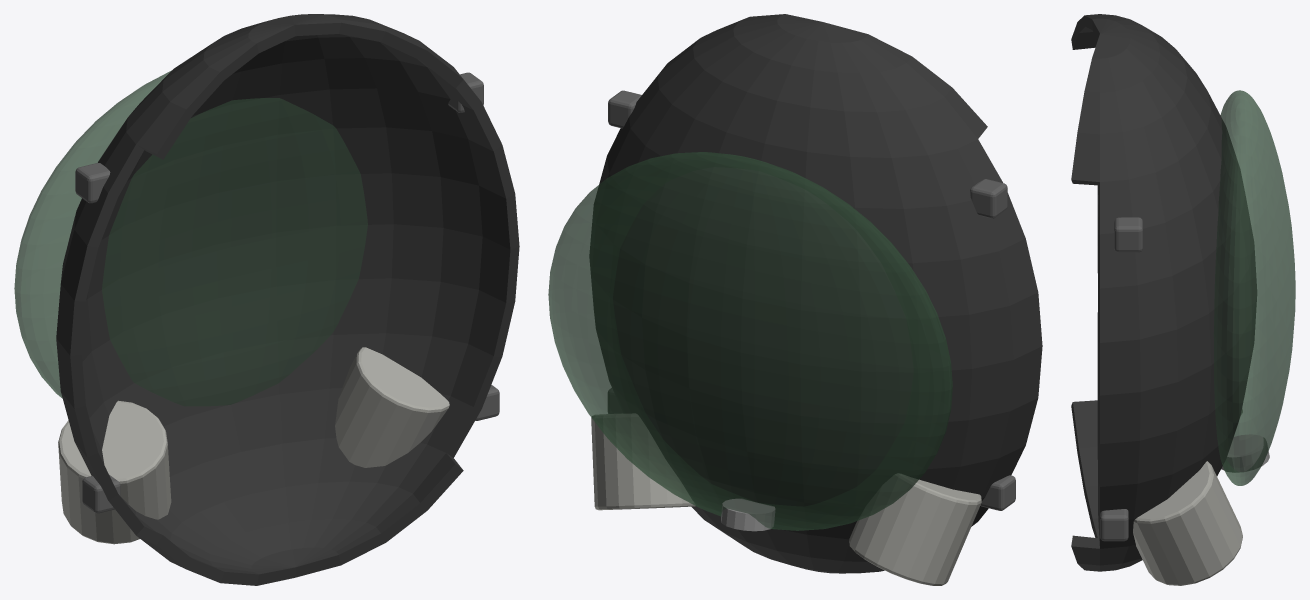
Rendered from hazmatmask.fbx.
The picture shows the model from 3 angles, left to right: view 1: azimuth 30°, elevation 25°; view 2: azimuth 150°, elevation 25°; view 3: azimuth 270°, elevation 25°; orthographic projection. The views are drawn at different scales.
Parts seen in each view (by area): view 1: HazmatMask_Facepiece, HazmatMask_Visor, HazmatMask_Canister_L, HazmatMask_Canister_R, HazmatMask_StrapAnchor_TL, HazmatMask_StrapAnchor_BL; view 2: HazmatMask_Facepiece, HazmatMask_Visor, HazmatMask_Canister_L, HazmatMask_Canister_R, HazmatMask_ExhaleValve, HazmatMask_StrapAnchor_TL, HazmatMask_StrapAnchor_BL, HazmatMask_StrapAnchor_TR; view 3: HazmatMask_Facepiece, HazmatMask_Visor, HazmatMask_Canister_R, HazmatMask_ExhaleValve, HazmatMask_StrapAnchor_TR, HazmatMask_StrapAnchor_BR.
Boxes of the visible parts, x1=… form: HazmatMask_Facepiece: x1=56, y1=14, x2=519, y2=585; HazmatMask_Visor: x1=14, y1=70, x2=367, y2=406; HazmatMask_Canister_L: x1=58, y1=400, x2=171, y2=544; HazmatMask_Canister_R: x1=335, y1=347, x2=449, y2=467; HazmatMask_StrapAnchor_TL: x1=75, y1=163, x2=110, y2=203; HazmatMask_StrapAnchor_BL: x1=82, y1=474, x2=120, y2=513; HazmatMask_Facepiece: x1=589, y1=14, x2=1042, y2=573; HazmatMask_Visor: x1=548, y1=152, x2=952, y2=530; HazmatMask_Canister_L: x1=849, y1=473, x2=981, y2=585; HazmatMask_Canister_R: x1=591, y1=413, x2=695, y2=510; HazmatMask_ExhaleValve: x1=721, y1=498, x2=775, y2=531; HazmatMask_StrapAnchor_TL: x1=970, y1=179, x2=1007, y2=218; HazmatMask_StrapAnchor_BL: x1=980, y1=475, x2=1015, y2=510; HazmatMask_StrapAnchor_TR: x1=608, y1=90, x2=641, y2=128; HazmatMask_Facepiece: x1=1071, y1=14, x2=1257, y2=571; HazmatMask_Visor: x1=1213, y1=90, x2=1295, y2=485; HazmatMask_Canister_R: x1=1133, y1=461, x2=1242, y2=585; HazmatMask_ExhaleValve: x1=1221, y1=434, x2=1269, y2=472; HazmatMask_StrapAnchor_TR: x1=1114, y1=217, x2=1142, y2=252; HazmatMask_StrapAnchor_BR: x1=1100, y1=509, x2=1128, y2=541.
Bounding box in the file's own units: 170 × 200 × 78.48.
